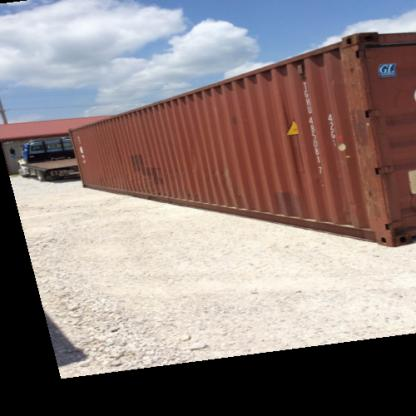Damage: (341, 42, 391, 218), (213, 168, 236, 199)
